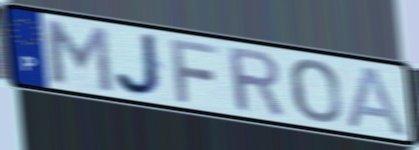A: (344, 64, 410, 139)
F: (167, 36, 222, 105)
J: (112, 31, 168, 99)
M: (41, 16, 117, 95)
O: (288, 57, 344, 125)
R: (224, 45, 288, 120)
